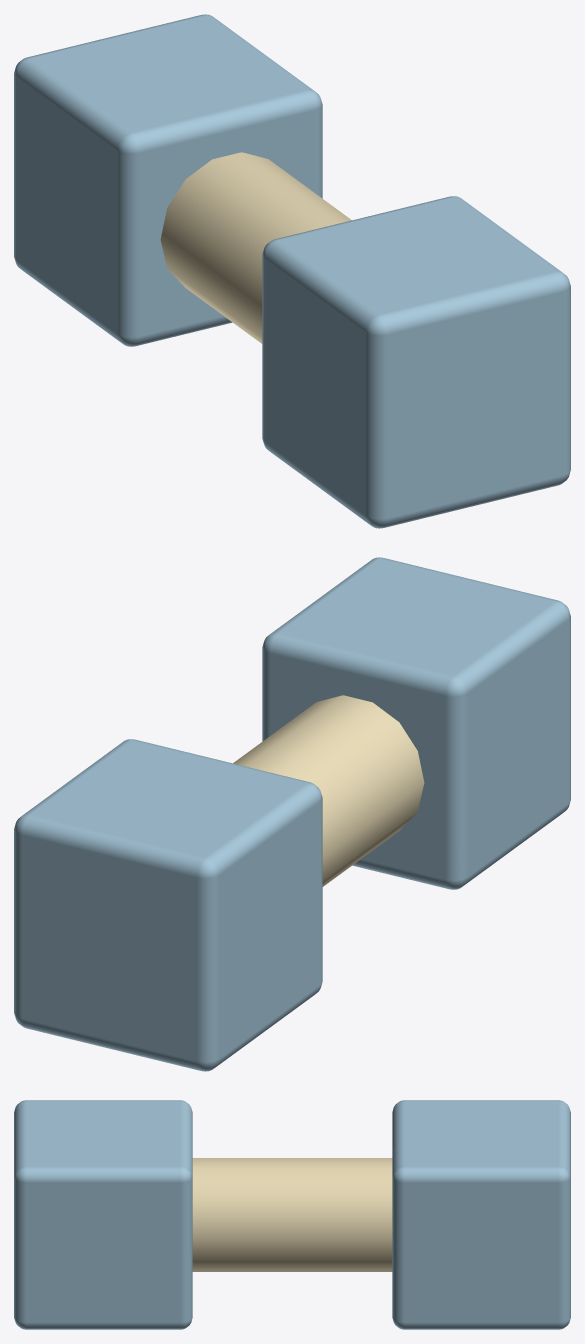
File: R4C_STRUT_STANDARD.glb
The picture shows the model from 3 angles, top to bottom: view 1: azimuth 30°, elevation 25°; view 2: azimuth 150°, elevation 25°; view 3: azimuth 270°, elevation 25°; orthographic projection. The views are drawn at different scales.
Parts seen in each view (by area): view 1: R4C_STRUT_STANDARD; view 2: R4C_STRUT_STANDARD; view 3: R4C_STRUT_STANDARD.
Part boxes in pixels (left/top/right/bottom): R4C_STRUT_STANDARD: left=14, top=14, right=570, bottom=528; R4C_STRUT_STANDARD: left=14, top=557, right=570, bottom=1071; R4C_STRUT_STANDARD: left=14, top=1100, right=570, bottom=1329.
Size of the model in its own units: 0.52 by 0.52 by 1.62.
